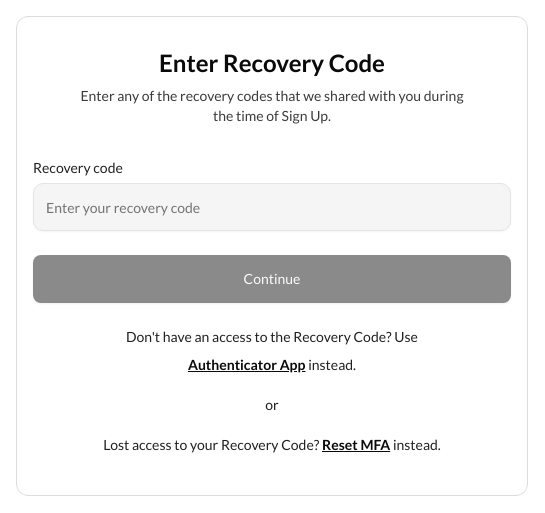
Scenario: MfaRecoveryForm template › submit button state › enables once a recovery code has been entered
The image size is (545, 513).
Type "RECOVER01" into the field at (272, 207), box [33, 183, 511, 231]
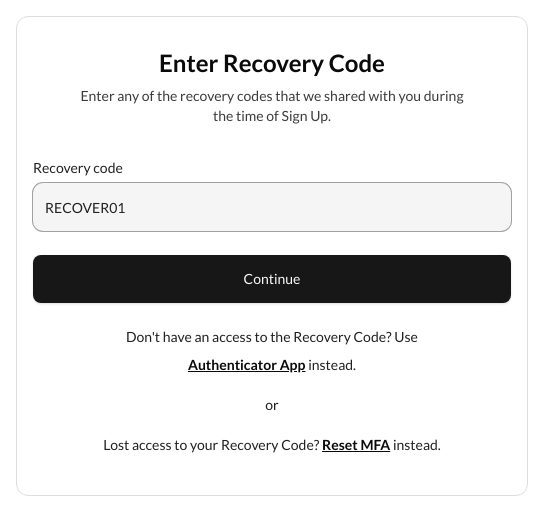
expect the submit button is enabled: met, box [33, 255, 511, 303]
